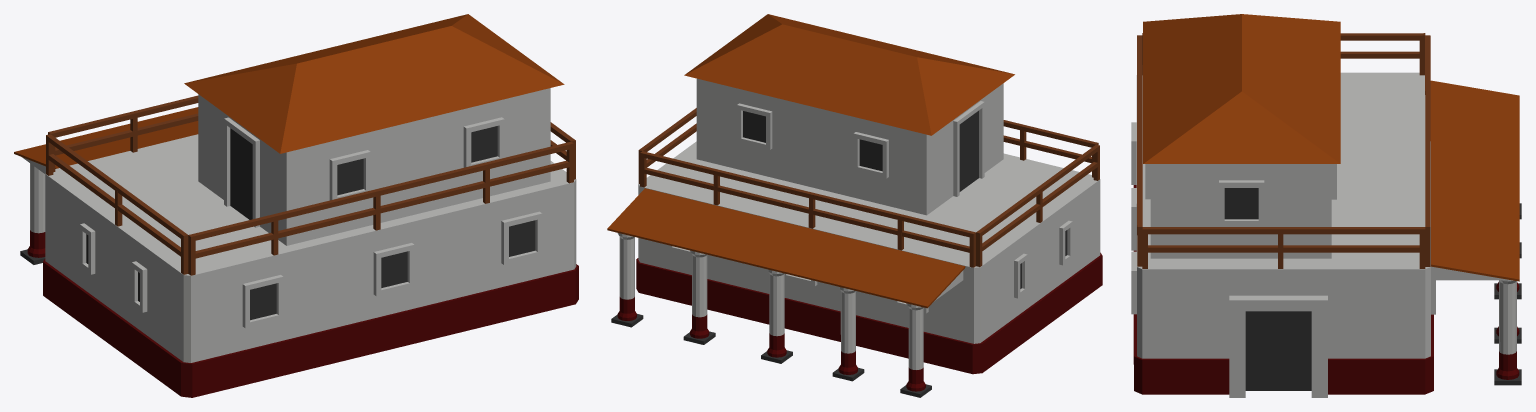
The model's file is Roman Building 3.fbx.
3 views of the same model, side by side, from view 1: azimuth 30°, elevation 25°; view 2: azimuth 150°, elevation 25°; view 3: azimuth 270°, elevation 25° (orthographic). The views are drawn at different scales.
Parts seen in each view (by area): view 1: Roman Building 3; view 2: Roman Building 3; view 3: Roman Building 3.
Part boxes in pixels (x1,y1,x2,y2): Roman Building 3: (14,14,578,397); Roman Building 3: (607,14,1102,397); Roman Building 3: (1131,14,1521,397).
Bounding box in the file's own units: 1752 × 1061 × 1421.
